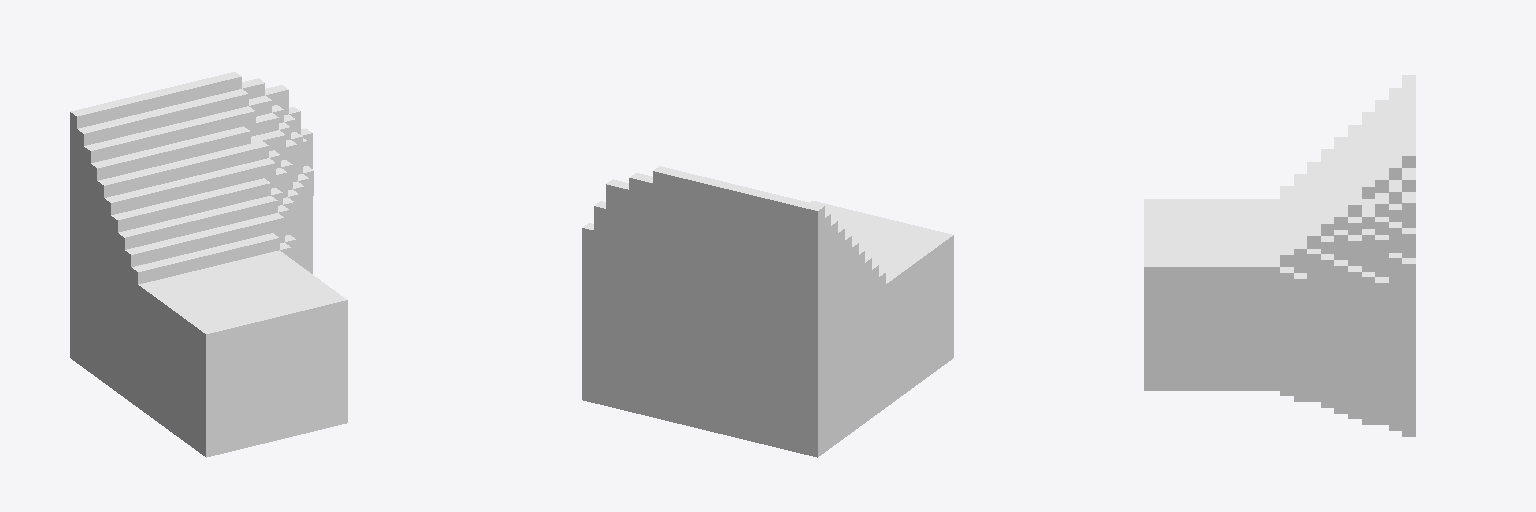
The model's file is Bomber.obj.
3 renders of one model, left to right at view 1: azimuth 30°, elevation 25°; view 2: azimuth 150°, elevation 25°; view 3: azimuth 270°, elevation 25°, orthographic.
Parts seen in each view (by area): view 1: object 1; view 2: object 1; view 3: object 1.
Boxes of the visible parts, box(x1,y1,x2,y2) form: object 1: box(70, 72, 347, 457); object 1: box(582, 166, 953, 457); object 1: box(1144, 75, 1415, 436).
Bounding box in the file's own units: 20 × 20 × 20.